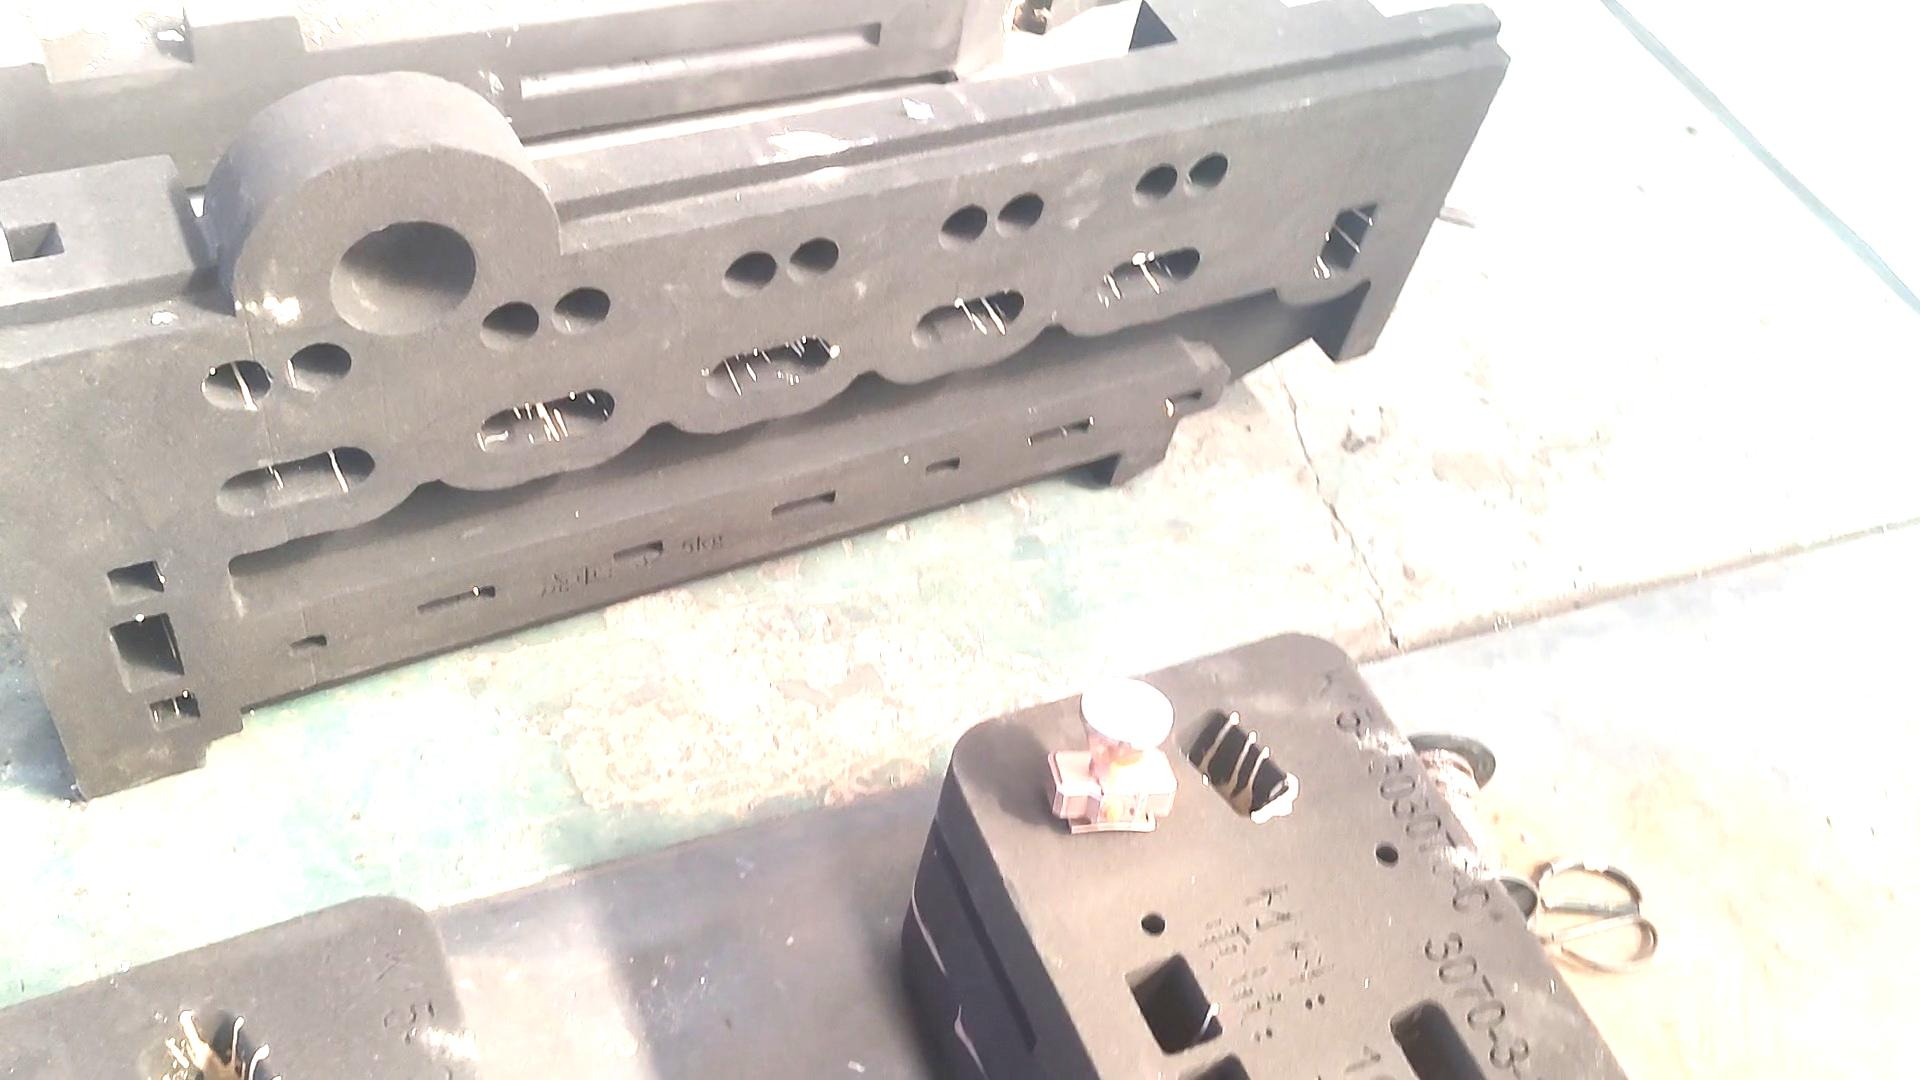pouring hole: (328, 222, 476, 338)
